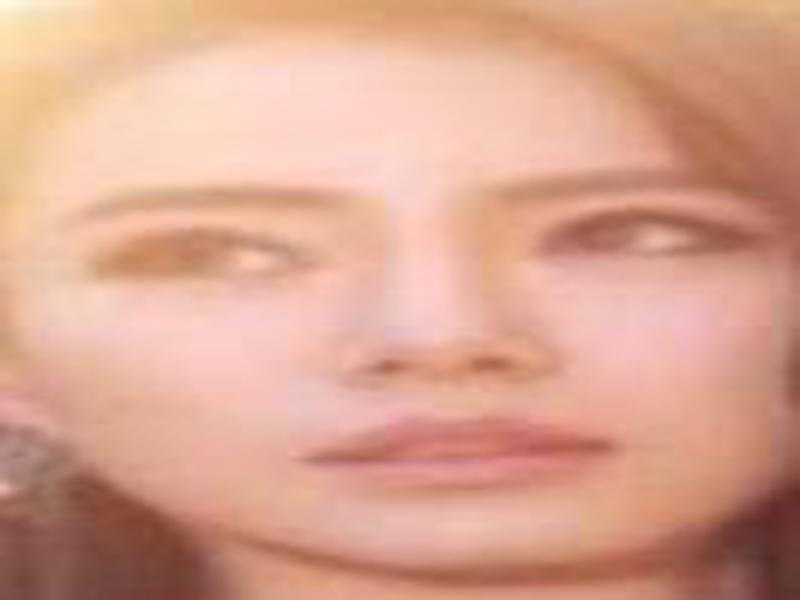without_mask: (17, 110, 789, 575)
